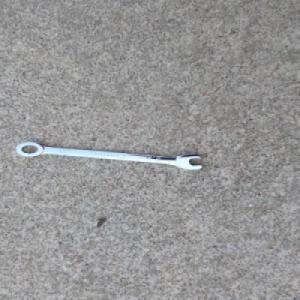Wrench: (14, 141, 204, 171)
